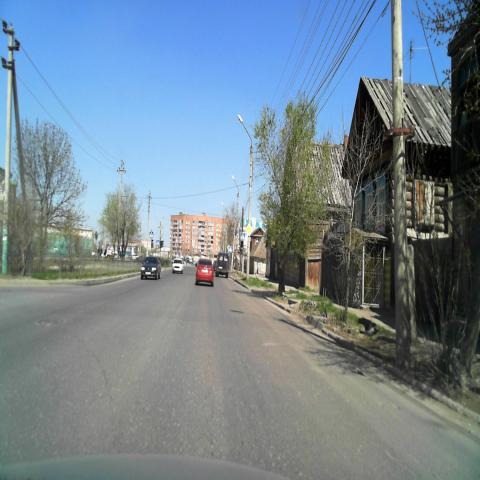2_1: (246, 223, 253, 236)
5_19_1: (240, 232, 245, 241)
